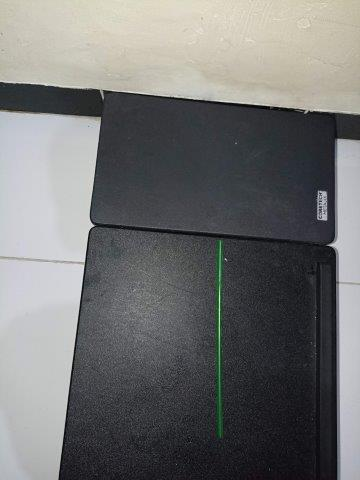sedotan: (216, 240, 223, 438)
